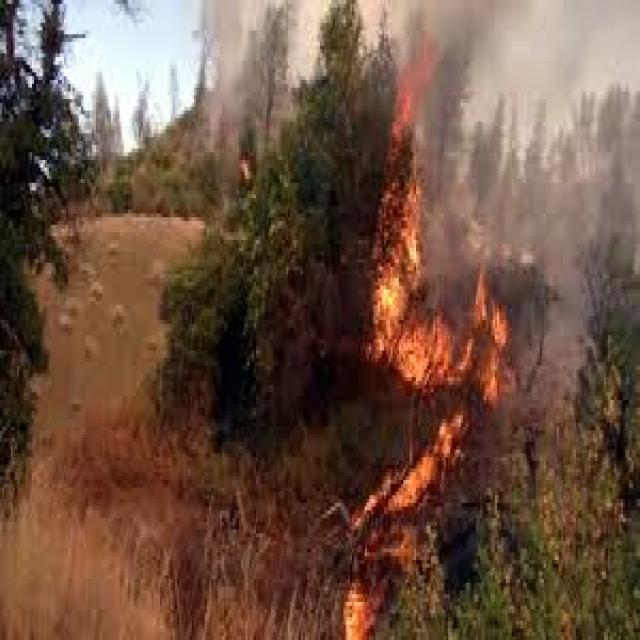Smoke: (419, 0, 640, 416), (198, 0, 249, 218)
